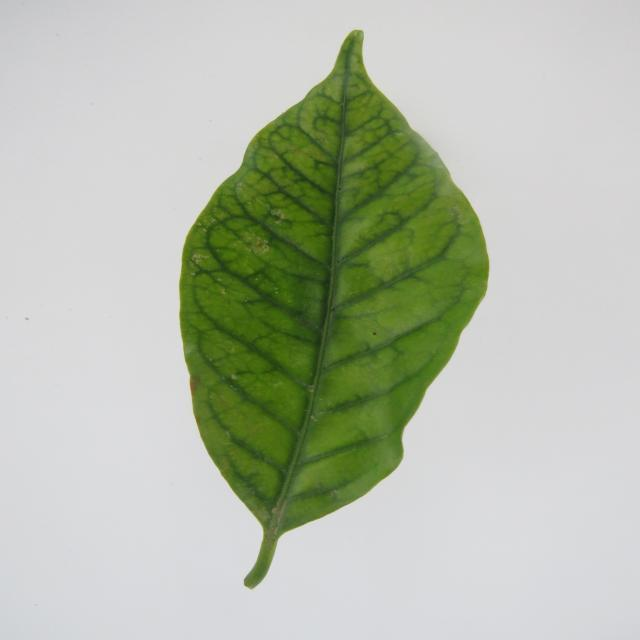DeficienciaNutricional-Manganeso: (180, 31, 488, 589)
